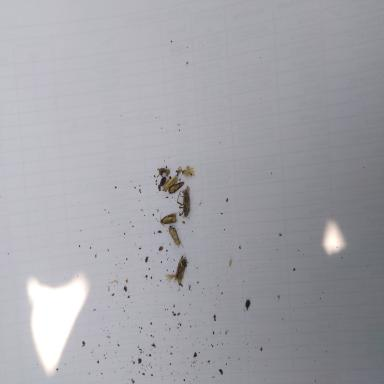pbw: (174, 252, 188, 285), (178, 187, 190, 220), (168, 225, 183, 246), (163, 175, 177, 193), (158, 212, 177, 225), (168, 180, 184, 194), (182, 166, 196, 179)
